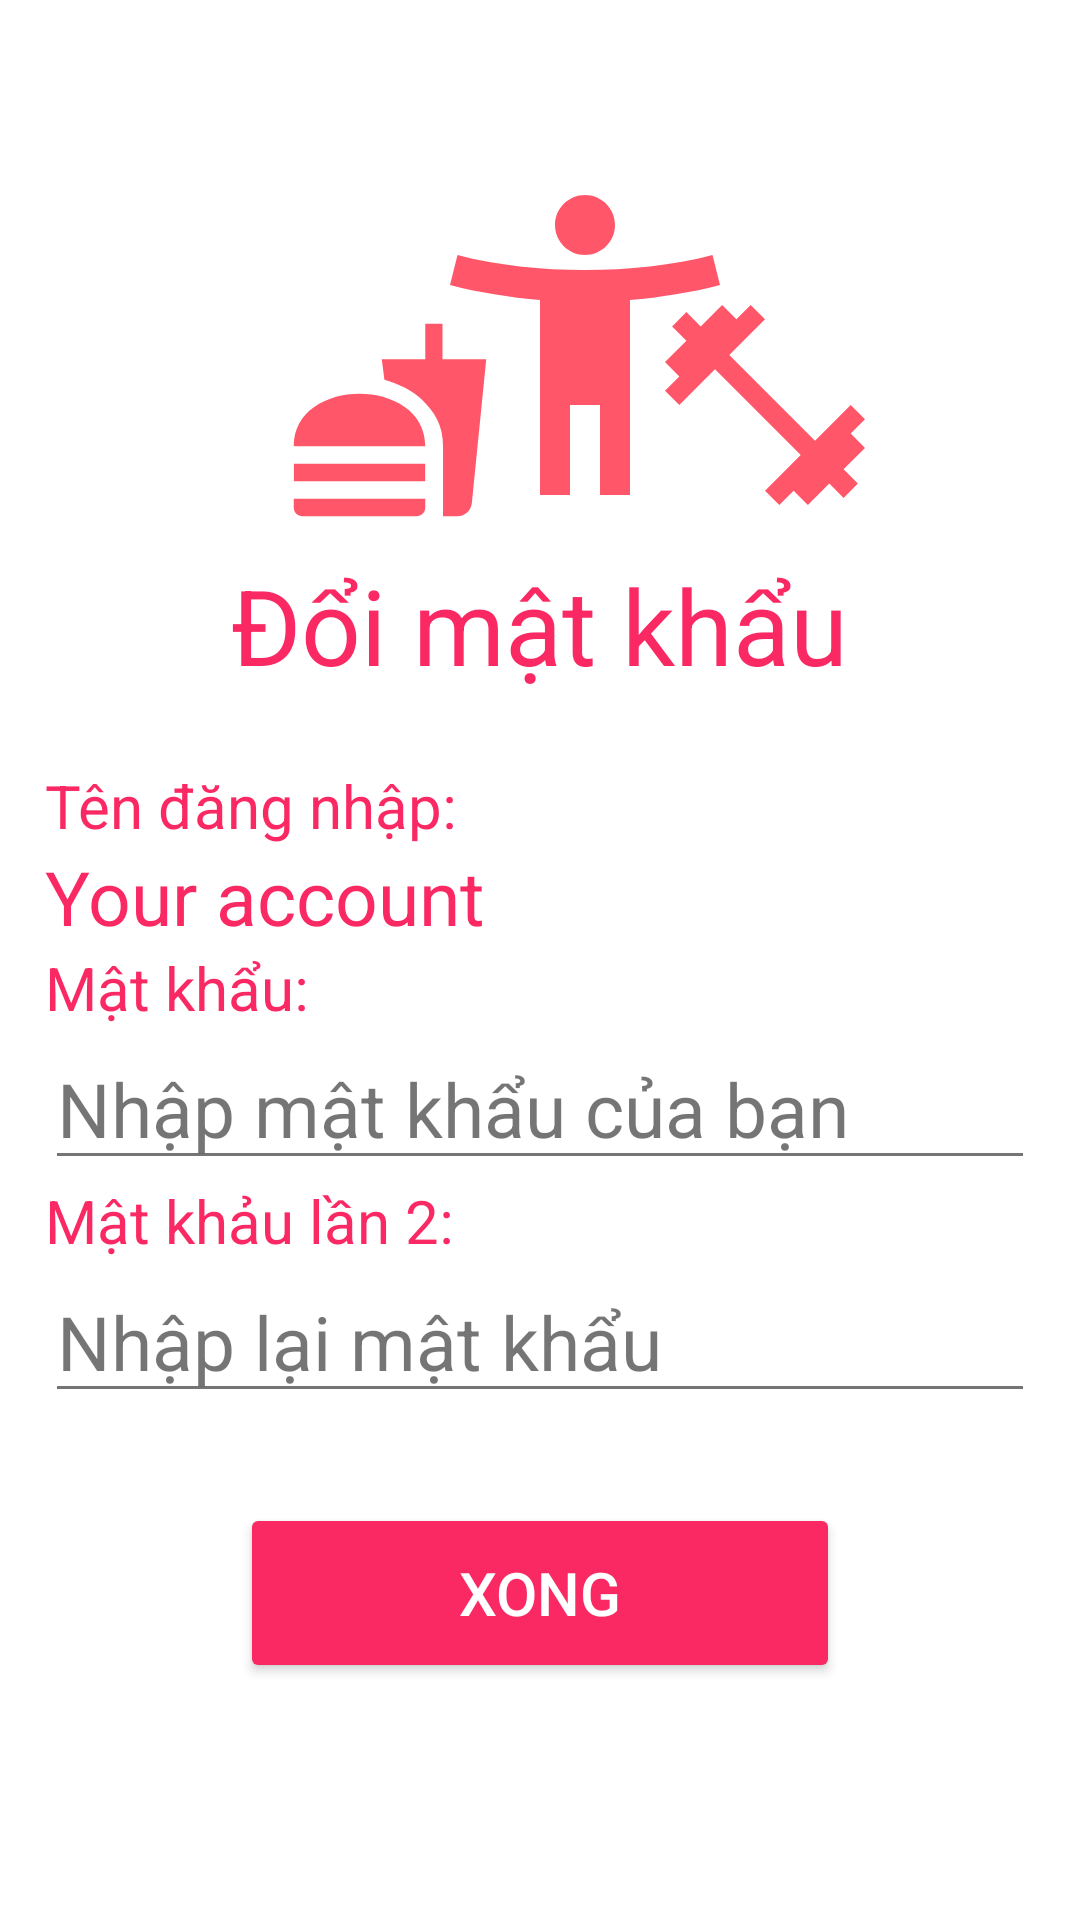

Screen size 1080w x 1920h. Icon name, then its center in pixels as (x=x, y=y):
cucta: (x=765, y=405)
doan: (x=390, y=420)
healthy: (x=585, y=345)
